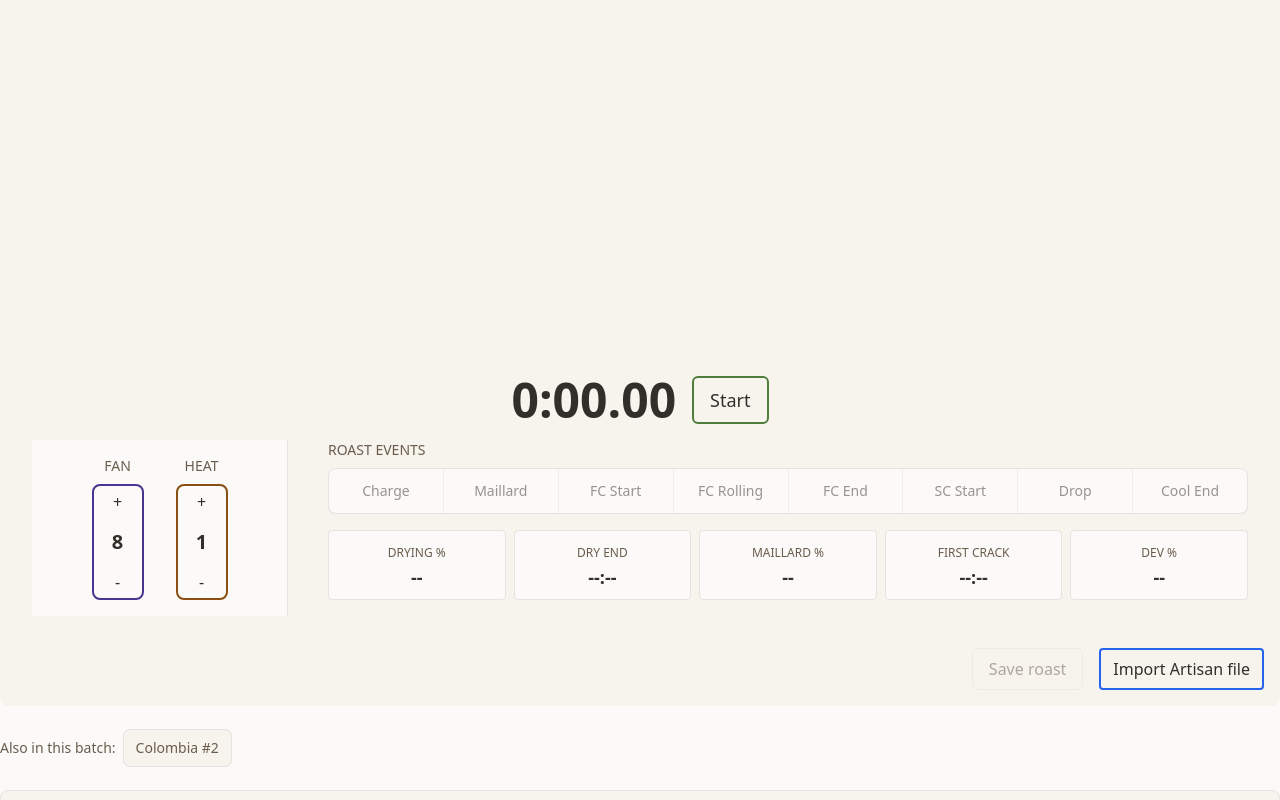
Scenario: roast page live roast guard › holds navigation away, a reload, and a closed tab while a roast is recording
(page scrolled)
What coordinates should you click on to do the following:
click the button with id "start-end-roast"
I would click on:
 (730, 400)
Its box is [692, 376, 768, 424].
(page scrolled)
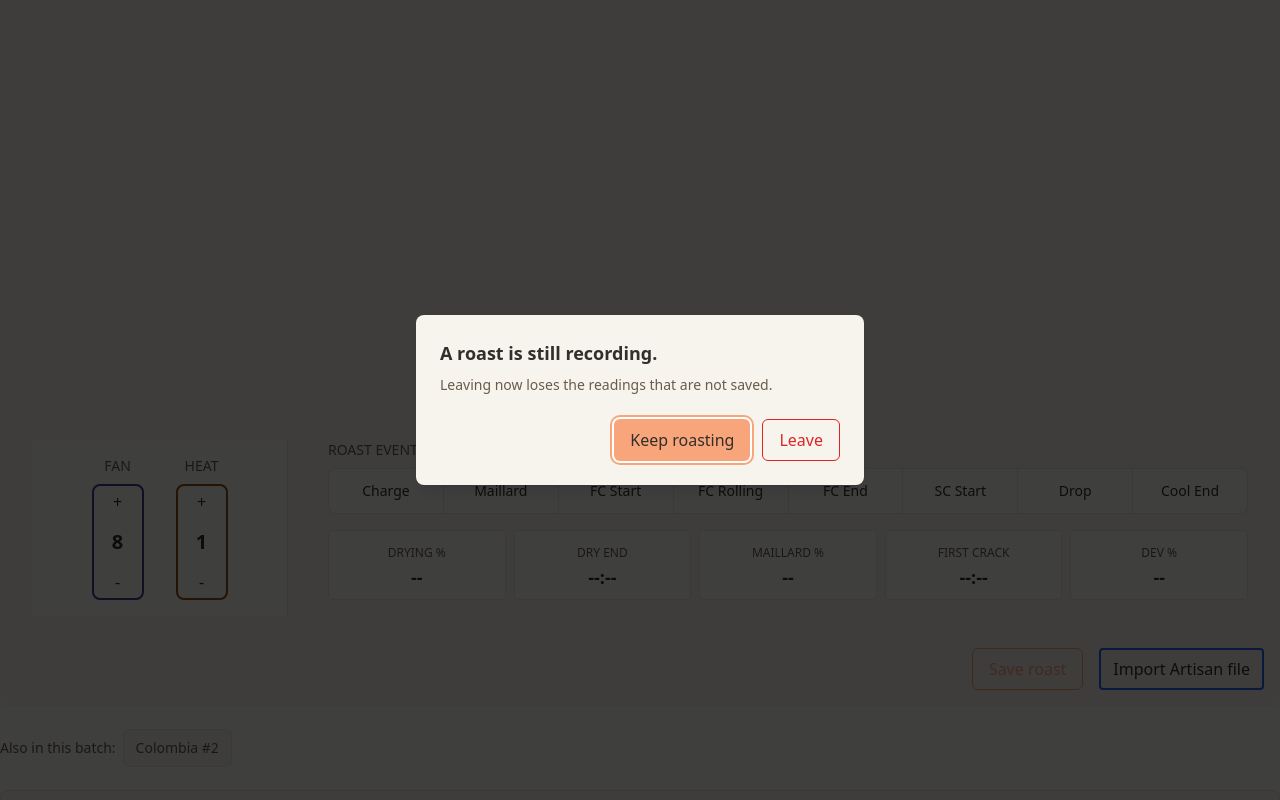
Expected: the button with id "start-end-roast" reads "Stop", [693, 376, 767, 424]
Expected: the dialog is shown, [416, 315, 864, 485]
What coordinates should you click on to do the following:
click the button "Keep roasting"
I would click on:
 (682, 440)
Its box is [614, 419, 750, 461].
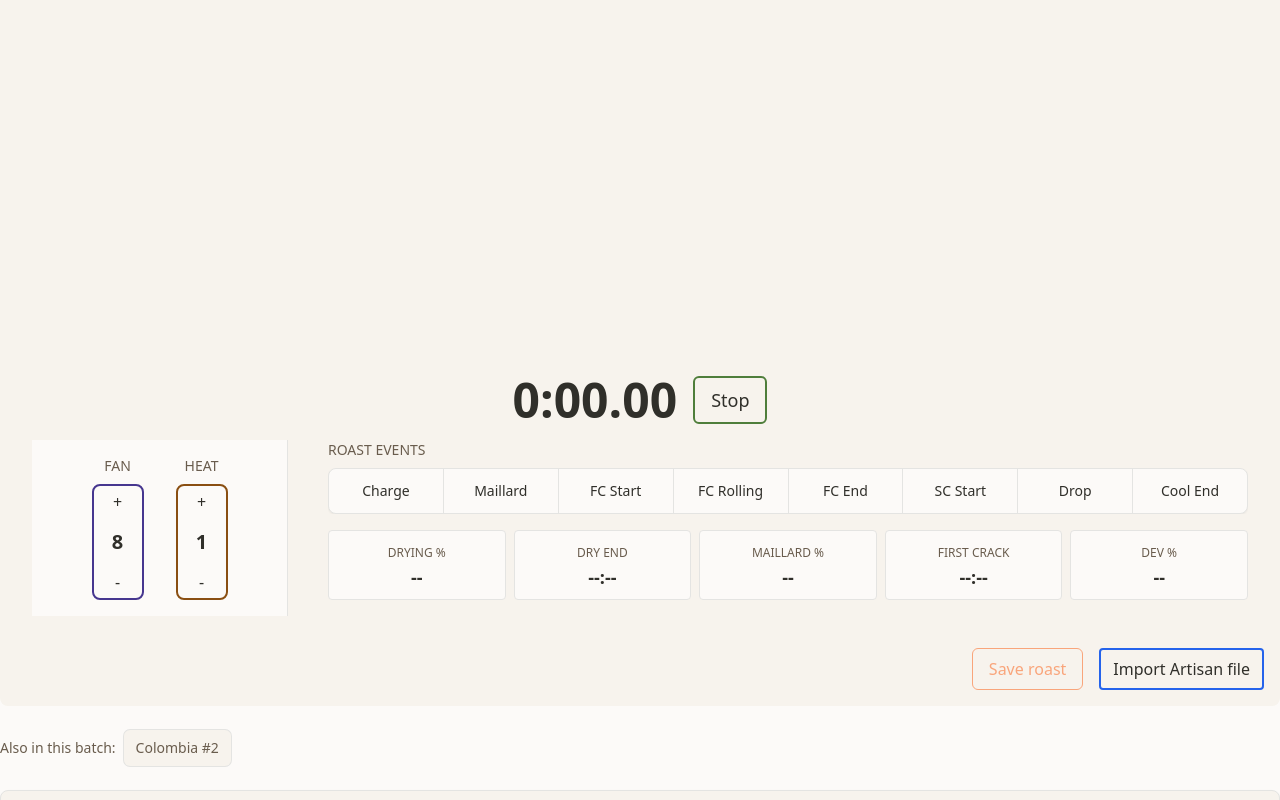
Expected: the button with id "start-end-roast" reads "Stop"
What coordinates should you click on to do the following:
click the button with id "start-end-roast"
I would click on:
 (730, 400)
Its box is [693, 376, 767, 424].
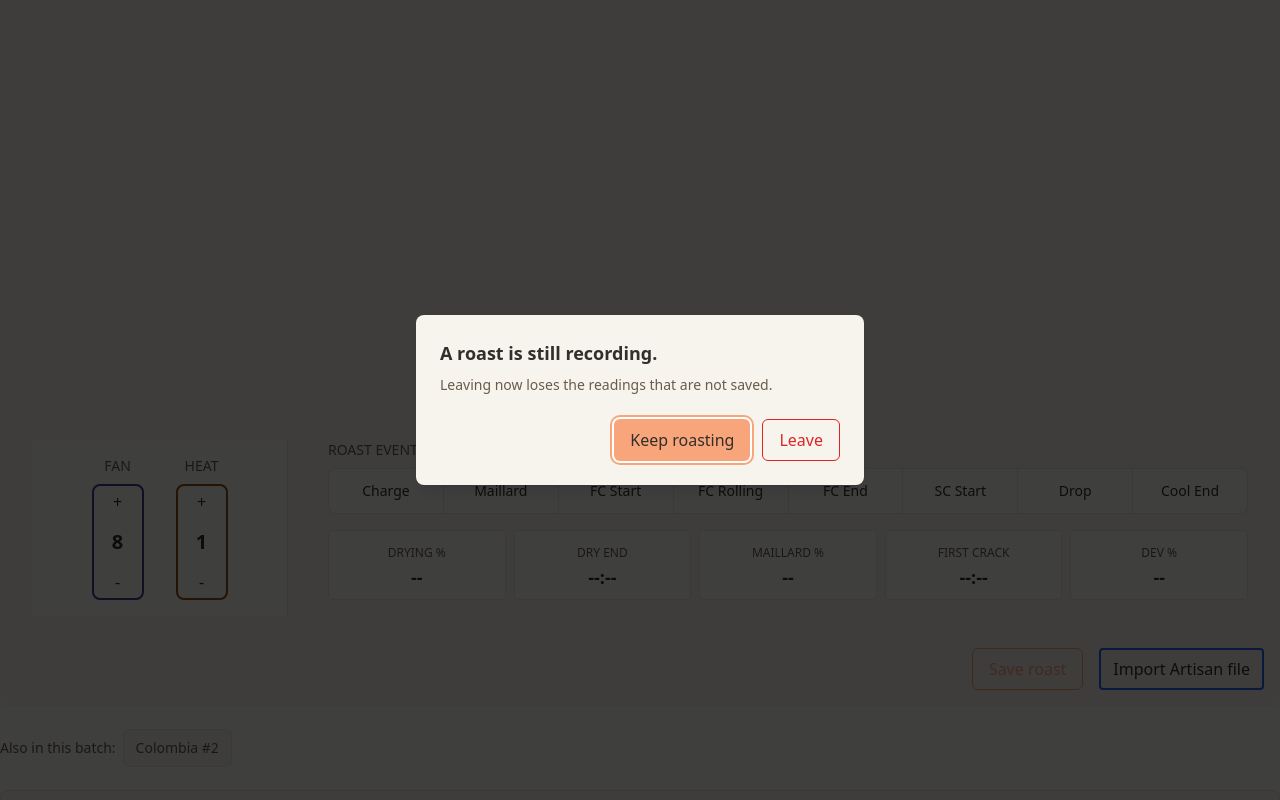
Expected: the button with id "start-end-roast" reads "Resume", [678, 376, 782, 424]
